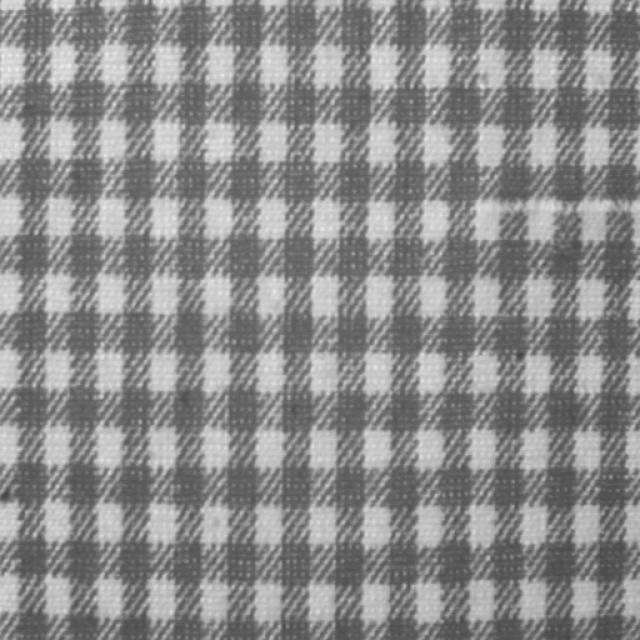Thread-Defect: (476, 199, 639, 216)
